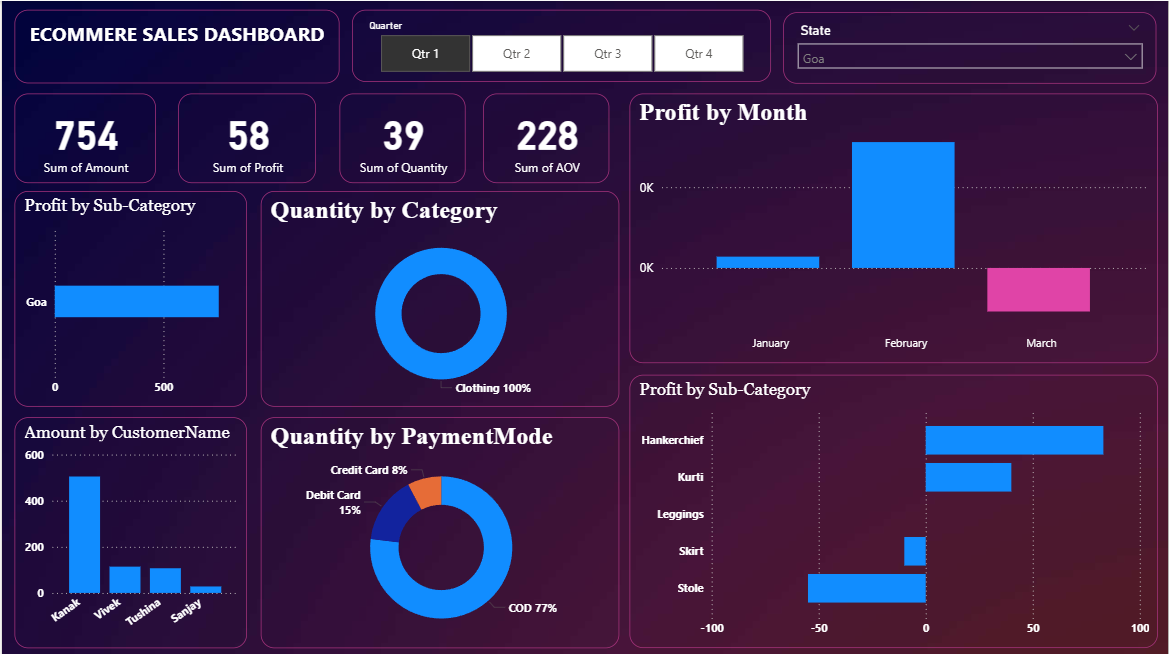

The page's visual inventory and layout, read from the dashboard file:
{"tool":"powerbi","page":{"name":"Page 1","canvas":[1280,720],"ordinal":0},"visuals":[{"type":"textbox","box":[13.7,9.6,356.5,80.9],"z":0},{"type":"columnChart","title":"Profit by Month","fields":{"Category":["Orders.Order Date.Variation.Date Hierarchy.Month"],"Y":["Details.Profit"]},"box":[688.3,101.5,580,296.1],"z":1000},{"type":"barChart","title":"Profit by Sub-Category","fields":{"Category":["Details.Sub-Category"],"Y":["Details.Profit"]},"box":[688.3,409.9,580,300.3],"z":2000},{"type":"donutChart","title":"Quantity by Category","fields":{"Category":["Details.Category"],"Y":["Details.Quantity"]},"box":[283.8,208.4,393.5,237.2],"z":3000},{"type":"donutChart","title":"Quantity by PaymentMode","fields":{"Y":["Details.Quantity"],"Category":["Details.PaymentMode"]},"box":[284,456.9,393.8,253.9],"z":4000},{"type":"card","fields":{"Values":["Details.Amount"]},"box":[13.7,101.5,154.9,98.7],"z":5000},{"type":"card","fields":{"Values":["Details.Quantity"]},"box":[370.2,101.5,138.5,98.7],"z":6000},{"type":"card","fields":{"Values":["Details.Profit"]},"box":[193.3,101.5,150.8,98.7],"z":7000},{"type":"card","fields":{"Values":["Details.AOV"]},"box":[527.9,101.5,138.5,98.7],"z":8000},{"type":"barChart","title":"Profit by Sub-Category","fields":{"Category":["Orders.State"],"Y":["Details.Amount"]},"box":[13.7,208.4,255,237.2],"z":9000},{"type":"columnChart","title":"Amount by CustomerName","fields":{"Category":["Orders.CustomerName"],"Y":["Details.Amount"]},"box":[13.7,456.6,255,253.6],"z":10000},{"type":"slicer","fields":{"Values":["Orders.State"]},"box":[858.3,12.3,409.9,78.1],"z":11000},{"type":"slicer","fields":{"Values":["Orders.Order Date.Variation.Date Hierarchy.Quarter"]},"box":[384.2,9.6,459.7,79.6],"z":12000}]}

Visuals, with their boxes in screenshot pixels (x1, y1, x2, y2), scaled from the page's 1280x720 canvas onto the 1169x654 screenshot:
textbox: rect(13, 9, 338, 82)
"Profit by Month" columnChart: rect(629, 92, 1158, 361)
"Profit by Sub-Category" barChart: rect(629, 372, 1158, 645)
"Quantity by Category" donutChart: rect(259, 189, 619, 405)
"Quantity by PaymentMode" donutChart: rect(259, 415, 619, 646)
card - Details.Amount: rect(13, 92, 154, 182)
card - Details.Quantity: rect(338, 92, 465, 182)
card - Details.Profit: rect(177, 92, 314, 182)
card - Details.AOV: rect(482, 92, 609, 182)
"Profit by Sub-Category" barChart: rect(13, 189, 245, 405)
"Amount by CustomerName" columnChart: rect(13, 415, 245, 645)
slicer - Orders.State: rect(784, 11, 1158, 82)
slicer - Orders.Order Date.Variation.Date Hierarchy.Quarter: rect(351, 9, 771, 81)
